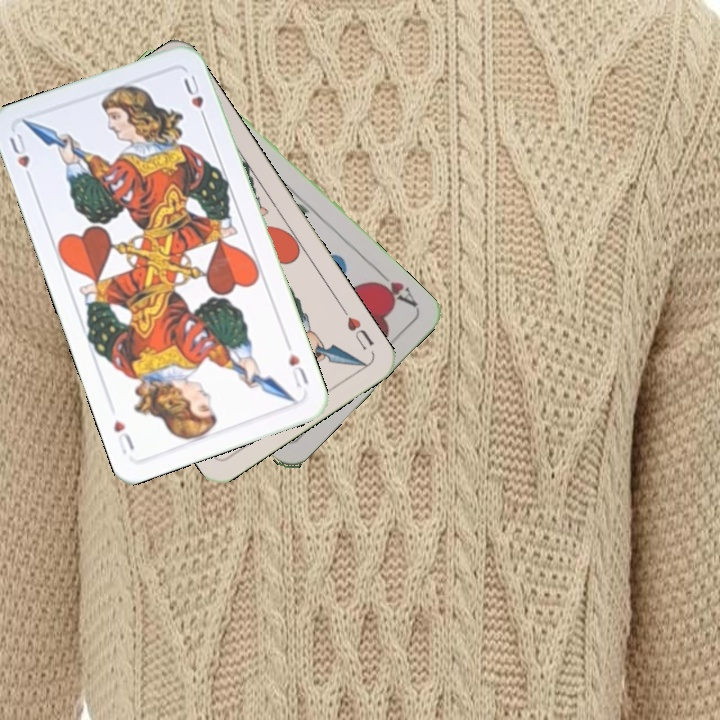HA: (368, 265, 421, 310)
HU: (337, 304, 377, 353), (5, 129, 36, 186), (284, 349, 311, 391)
